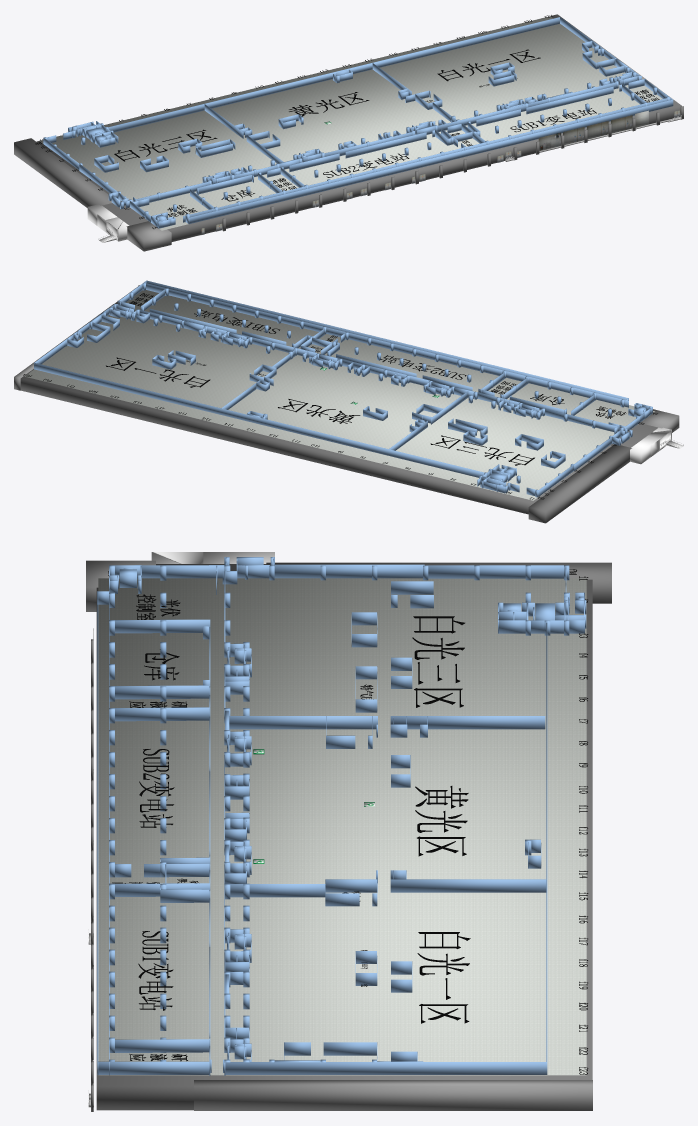
The model's file is 2f_mini.gltf.
The picture shows the model from 3 angles, top to bottom: view 1: azimuth 30°, elevation 25°; view 2: azimuth 150°, elevation 25°; view 3: azimuth 270°, elevation 25°; orthographic projection. The views are drawn at different scales.
Visible parts, largest first — view 1: fab_n1_dimian_2f, fab_n1_waiguan_2_43, fab_n1_qiang_2f_179, fab_n1_qiang_2f_1, fab_n1_waiguan_2_44, fab_n1_qiang_2f_180, fab_n1_waiguan_2_128, fab_n1_qiang_2f_133, fab_n1_qiang_2f_149, fab_n1_waiguan_2_129, fab_n1_qiang_2f_260, fab_n1_qiang_2f_200 (+6 smaller); view 2: fab_n1_dimian_2f, fab_n1_waiguan_2_43, fab_n1_qiang_2f_1, fab_n1_qiang_2f_180, fab_n1_waiguan_2_44, fab_n1_qiang_2f_179, fab_n1_waiguan_2_128, fab_n1_waiguan_2_61, fab_n1_qiang_2f_200, fab_n1_qiang_2f_298, fab_n1_waiguan_2_129, baiguang (+3 smaller); view 3: fab_n1_dimian_2f, fab_n1_waiguan_2_41, fab_n1_waiguan_2_43, fab_n1_qiang_2f_392, fab_n1_waiguan_2_44, fab_n1_qiang_2f_31, fab_n1_qiang_2f_47, fab_n1_qiang_2f_42, fab_n1_qiang_2f_92, fab_n1_qiang_2f_91, fab_n1_qiang_2f_126, fab_n1_qiang_2f_132 (+15 smaller).
Boxes of the visible parts, x1,y1,x2,y2 form: fab_n1_dimian_2f: (39, 16, 662, 230); fab_n1_waiguan_2_43: (36, 16, 681, 241); fab_n1_qiang_2f_179: (189, 99, 673, 223); fab_n1_qiang_2f_1: (108, 17, 559, 132); fab_n1_waiguan_2_44: (14, 138, 111, 207); fab_n1_qiang_2f_180: (183, 98, 667, 222); fab_n1_waiguan_2_128: (126, 221, 171, 251); fab_n1_qiang_2f_133: (526, 86, 613, 114); fab_n1_qiang_2f_149: (345, 132, 426, 158); fab_n1_waiguan_2_129: (97, 214, 129, 241); fab_n1_qiang_2f_260: (437, 104, 525, 132); fab_n1_qiang_2f_200: (136, 181, 209, 202); fab_n1_dimian_2f: (25, 290, 654, 500); fab_n1_waiguan_2_43: (20, 287, 657, 514); fab_n1_qiang_2f_1: (34, 363, 484, 477); fab_n1_qiang_2f_180: (146, 283, 628, 407); fab_n1_waiguan_2_44: (528, 444, 631, 523); fab_n1_qiang_2f_179: (146, 280, 628, 400); fab_n1_waiguan_2_128: (640, 409, 679, 432); fab_n1_waiguan_2_61: (630, 436, 658, 464); fab_n1_qiang_2f_200: (545, 408, 617, 431); fab_n1_qiang_2f_298: (342, 359, 429, 385); fab_n1_waiguan_2_129: (647, 427, 671, 456); baiguang: (430, 435, 534, 465); fab_n1_dimian_2f: (98, 578, 586, 1075); fab_n1_waiguan_2_41: (194, 1080, 592, 1110); fab_n1_waiguan_2_43: (96, 564, 592, 1110); fab_n1_qiang_2f_392: (225, 1062, 547, 1074); fab_n1_waiguan_2_44: (266, 562, 611, 603); fab_n1_qiang_2f_31: (390, 879, 546, 892); fab_n1_qiang_2f_47: (229, 716, 377, 729); fab_n1_qiang_2f_42: (390, 716, 545, 729); fab_n1_qiang_2f_92: (274, 565, 424, 578); fab_n1_qiang_2f_91: (428, 565, 563, 578); fab_n1_qiang_2f_126: (98, 1061, 209, 1074); fab_n1_qiang_2f_132: (115, 1039, 210, 1052).
Size of the model in its own units: 349 by 12.29 by 141.
39 materials, 29 textured.
